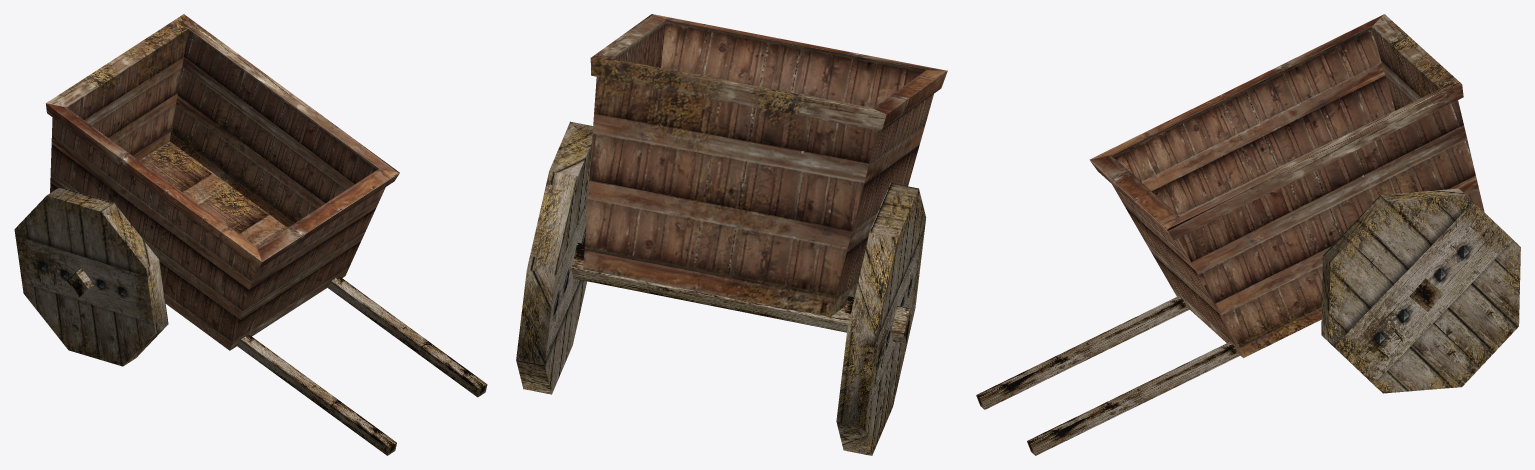
Rendered from prop_cart.FBX.
3 renders of one model, left to right at view 1: azimuth 30°, elevation 25°; view 2: azimuth 150°, elevation 25°; view 3: azimuth 270°, elevation 25°, orthographic. The views are drawn at different scales.
Parts seen in each view (by area): view 1: cart; view 2: cart; view 3: cart.
Part boxes in pixels (x1,y1,x2,y2): cart: (14,14,487,455); cart: (516,14,947,455); cart: (976,14,1520,455).
Size of the model in its own units: 257 by 235 by 356.
